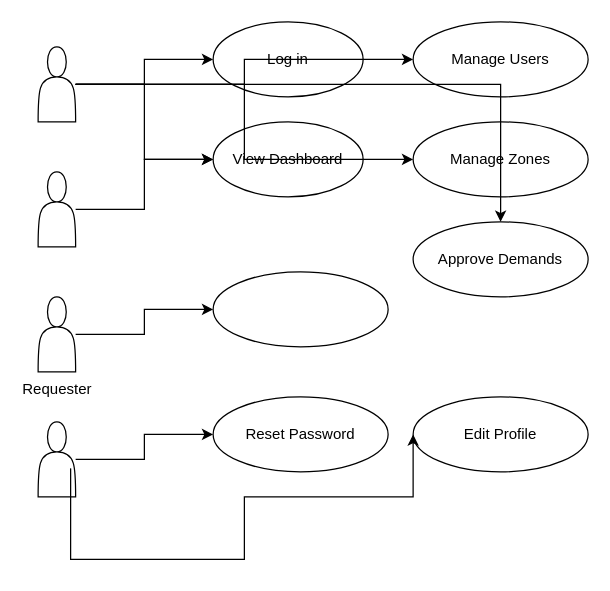
The diagram is 610 pixels wide and 591 high, and some of its shapes have lost their labels. The centre of each missing label's shape, as x and y in pixels:
Admin: pixel 56 84
AuthUser: pixel 56 459
Create Demand: pixel 300 309
Technician: pixel 56 209
